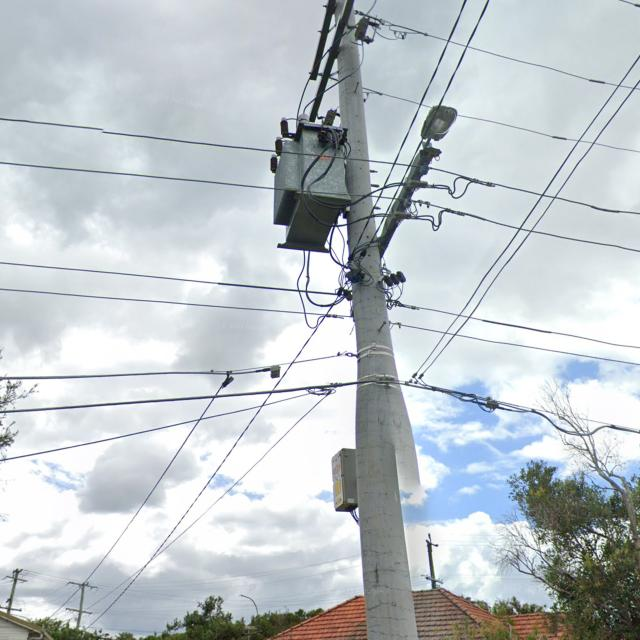HV-transmission: (308, 0, 385, 80)
LV link: (407, 176, 495, 199), (391, 207, 467, 231)
concrete-pole: (331, 0, 420, 640)
crossarm: (379, 145, 442, 257), (311, 0, 352, 123), (309, 0, 335, 81)
streetlight: (422, 106, 458, 150)
transformer: (271, 114, 346, 250)
